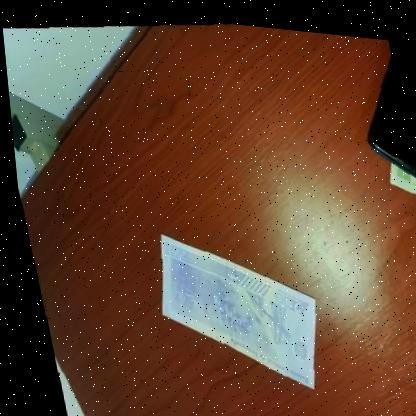vef_back: (138, 213, 327, 400)
